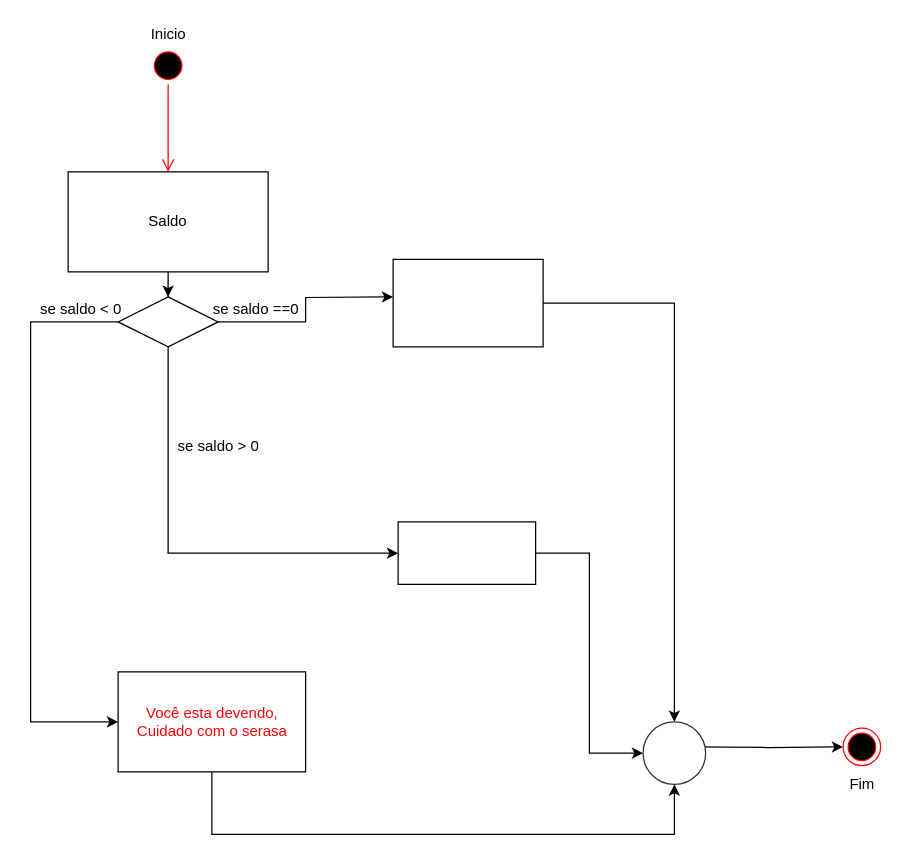
Image size: 909x866. Some labels were removed from this diagram. Each missing label, with the box of its shape:
Conta zerada: (392, 258, 543, 347)
Saldo positivo !!: (397, 521, 536, 584)
